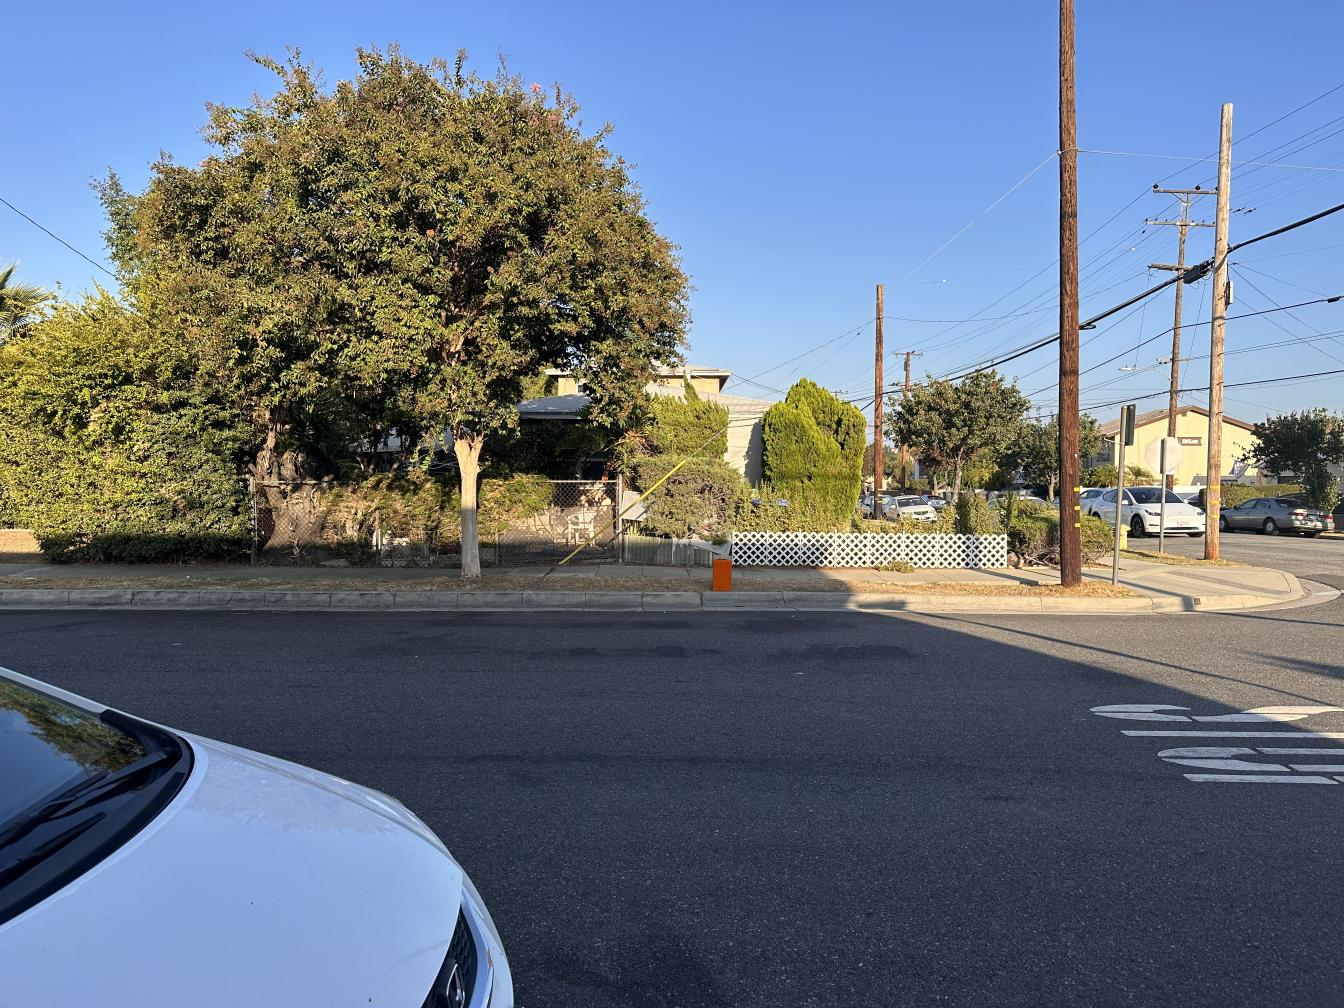curbs-laRr: (1, 586, 1182, 620)
orange box: (713, 560, 734, 593)
